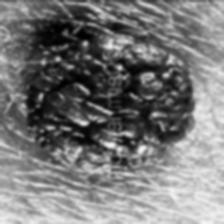Potentially Malignant Skin Tumors: (20, 19, 104, 174), (122, 25, 186, 164)
